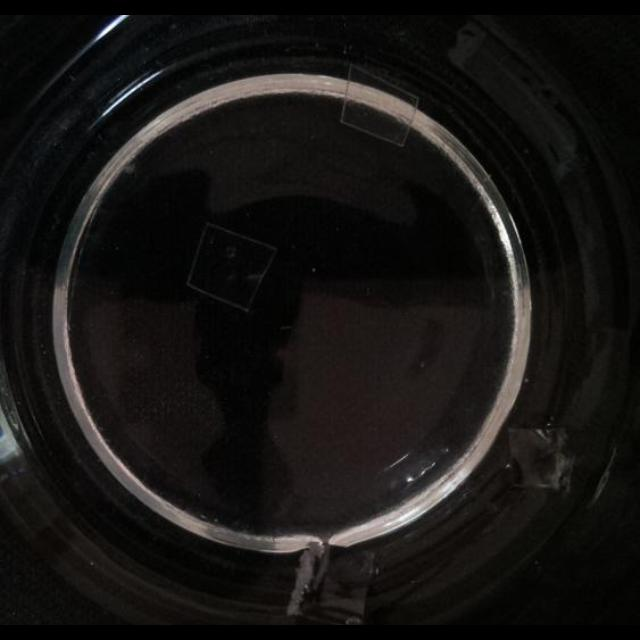Film: (186, 223, 280, 313), (288, 538, 380, 622), (340, 64, 420, 146), (505, 425, 573, 491)
